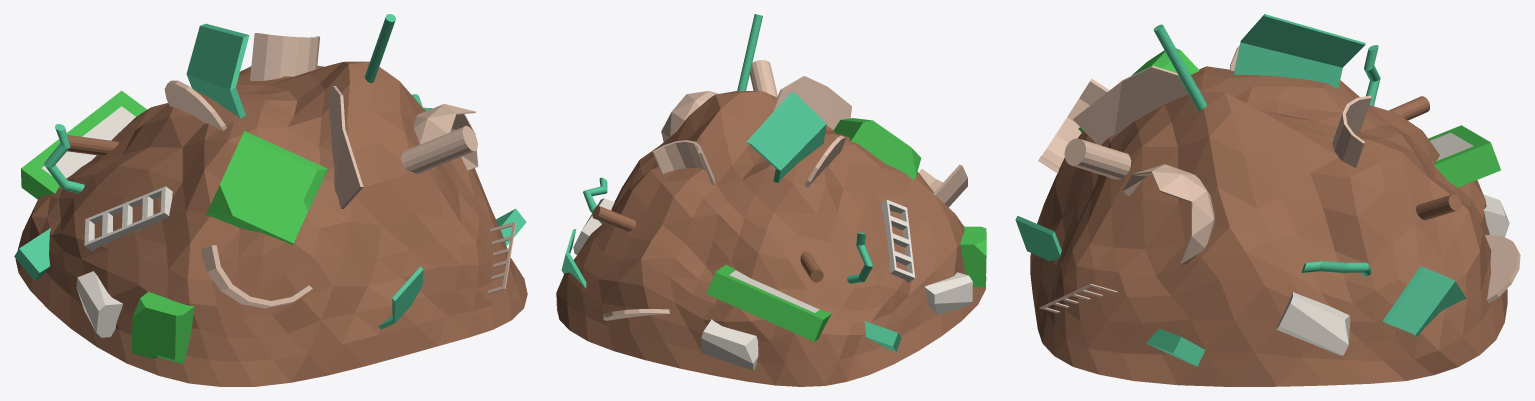
Rendered from Pisces Junk Pile Large.fbx.
3 views of the same model, side by side, from view 1: azimuth 30°, elevation 25°; view 2: azimuth 150°, elevation 25°; view 3: azimuth 270°, elevation 25° (orthographic). The views are drawn at different scales.
Visible parts, largest first — view 1: Junk Pile Large.001, Junk Pile Large; view 2: Junk Pile Large.001, Junk Pile Large; view 3: Junk Pile Large.001, Junk Pile Large.
Part boxes in pixels (x1=…): Junk Pile Large.001: x1=15, y1=61, x2=527, y2=386; Junk Pile Large: x1=14, y1=14, x2=526, y2=363; Junk Pile Large.001: x1=556, y1=91, x2=986, y2=386; Junk Pile Large: x1=561, y1=14, x2=986, y2=370; Junk Pile Large.001: x1=1030, y1=66, x2=1507, y2=386; Junk Pile Large: x1=1015, y1=14, x2=1520, y2=366.
Size of the model in its own units: 293 by 191 by 297.
